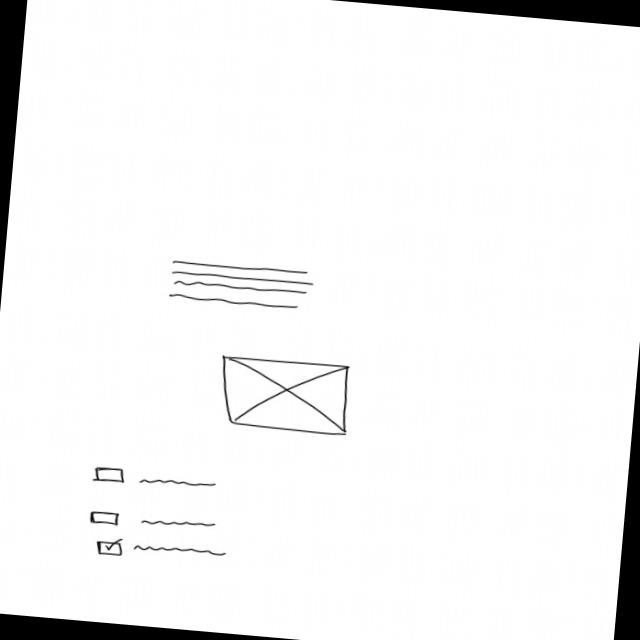checkbox: (96, 536, 229, 568), (90, 464, 220, 494), (87, 509, 219, 535)
image: (215, 355, 355, 439)
textbox: (165, 256, 316, 318)
